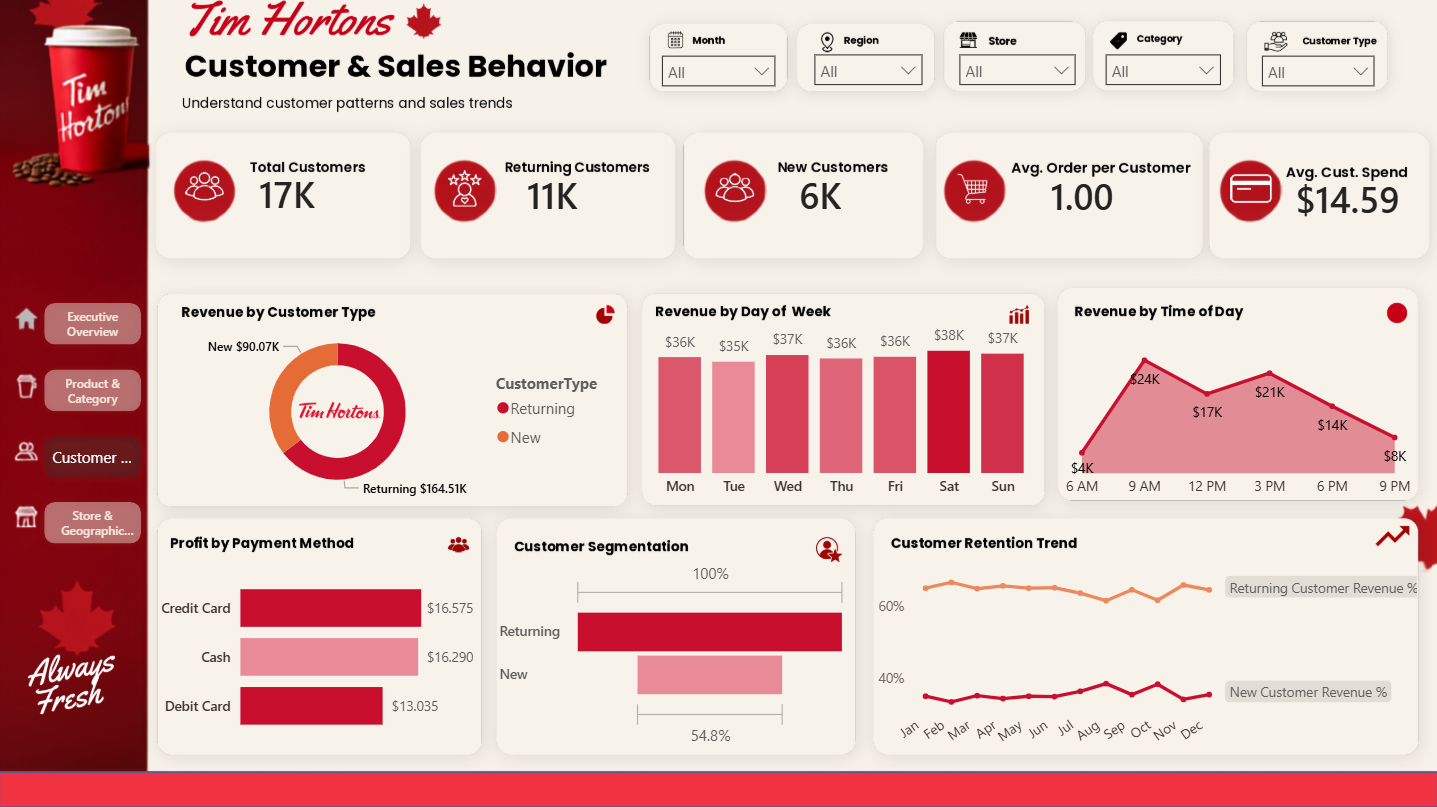

The dashboard page shown, as its layout file describes it:
{"tool":"powerbi","page":{"name":"Customer & sales Behavior","canvas":[1280,720],"ordinal":2},"visuals":[{"type":"slicer","fields":{"Values":["DimDate.Month Name"]},"box":[578.7,39.9,121.6,49.6],"z":0},{"type":"slicer","fields":{"Values":["DimLocation.Region"]},"box":[714,39.4,116.3,45.2],"z":1000},{"type":"slicer","fields":{"Values":["DimStore.Store"]},"box":[843.3,38.9,123.5,49.6],"z":2000},{"type":"slicer","fields":{"Values":["DimProduct.Category"]},"box":[973.6,38.9,122.6,49.6],"z":3000},{"type":"slicer","fields":{"Values":["SalesData.CustomerType"]},"box":[1112.7,39.9,120.6,49.6],"z":4000},{"type":"cardVisual","fields":{"Data":["Measures (2).Total Customers"]},"box":[202.3,135.3,126.5,73.7],"z":5000},{"type":"cardVisual","fields":{"Data":["Measures (2).Returning Customers"]},"box":[439.9,139.7,104.5,66],"z":6000},{"type":"cardVisual","fields":{"Data":["Measures (2).New Customers"]},"box":[681.8,134.2,105.6,77],"z":7000},{"type":"cardVisual","fields":{"Data":["Measures (2).Avg Orders per Customer"]},"box":[905,135.3,129.8,75.9],"z":8000},{"type":"cardVisual","fields":{"Data":["Measures (2).Avg Customer Spend"]},"box":[1123.8,141.9,152.9,68.2],"z":9000},{"type":"donutChart","fields":{"Category":["SalesData.CustomerType"],"Y":["Measures (2).Total Revenue"]},"box":[155.1,282.6,398.1,169.3],"z":10000},{"type":"clusteredColumnChart","fields":{"Category":["DimDate.Day Name"],"Y":["Measures (2).Total Revenue"]},"box":[561.9,278.2,373.9,173.7],"z":11000},{"type":"lineChart","fields":{"Y":["Measures (2).Total Revenue"],"Category":["SalesData.Hour AM PM"]},"box":[935.6,282.5,332.5,169.5],"z":12000},{"type":"barChart","fields":{"Y":["Measures (2).Average Profit per Order"],"Category":["SalesData.PaymentMethod"]},"box":[138,494.4,289,174.9],"z":13000},{"type":"funnel","fields":{"Category":["SalesData.CustomerType"],"Y":["Measures (2).Total Profit"]},"box":[440.1,494.4,319.5,174.9],"z":14000},{"type":"lineChart","fields":{"Category":["DimDate.Month Name"],"Y":["Measures (2).New Customer Revenue %","Measures (2).Returning Customer Revenue %"]},"box":[776.9,494.4,489,188],"z":15000},{"type":"image","box":[255.6,330.6,94.2,69.2],"z":16000},{"type":"pageNavigator","box":[31.7,262.3,102.8,230.6],"z":17000},{"type":"shape","box":[0,687,1280,33],"z":17001}]}

Visuals, with their boxes on the page's 1280x720 design canvas (x1, y1, x2, y2). These are canvas units, not pixel positions in the 1437x807 screenshot, which may show the page scaled, cropped or inside an application window:
slicer - DimDate.Month Name: rect(579, 40, 700, 90)
slicer - DimLocation.Region: rect(714, 39, 830, 85)
slicer - DimStore.Store: rect(843, 39, 967, 88)
slicer - DimProduct.Category: rect(974, 39, 1096, 88)
slicer - SalesData.CustomerType: rect(1113, 40, 1233, 90)
cardVisual - Measures (2).Total Customers: rect(202, 135, 329, 209)
cardVisual - Measures (2).Returning Customers: rect(440, 140, 544, 206)
cardVisual - Measures (2).New Customers: rect(682, 134, 787, 211)
cardVisual - Measures (2).Avg Orders per Customer: rect(905, 135, 1035, 211)
cardVisual - Measures (2).Avg Customer Spend: rect(1124, 142, 1277, 210)
donutChart - SalesData.CustomerType x Measures (2).Total Revenue: rect(155, 283, 553, 452)
clusteredColumnChart - DimDate.Day Name x Measures (2).Total Revenue: rect(562, 278, 936, 452)
lineChart - Measures (2).Total Revenue x SalesData.Hour AM PM: rect(936, 282, 1268, 452)
barChart - Measures (2).Average Profit per Order x SalesData.PaymentMethod: rect(138, 494, 427, 669)
funnel - SalesData.CustomerType x Measures (2).Total Profit: rect(440, 494, 760, 669)
lineChart - DimDate.Month Name x Measures (2).New Customer Revenue %: rect(777, 494, 1266, 682)
image: rect(256, 331, 350, 400)
pageNavigator: rect(32, 262, 134, 493)
shape: rect(0, 687, 1280, 720)
